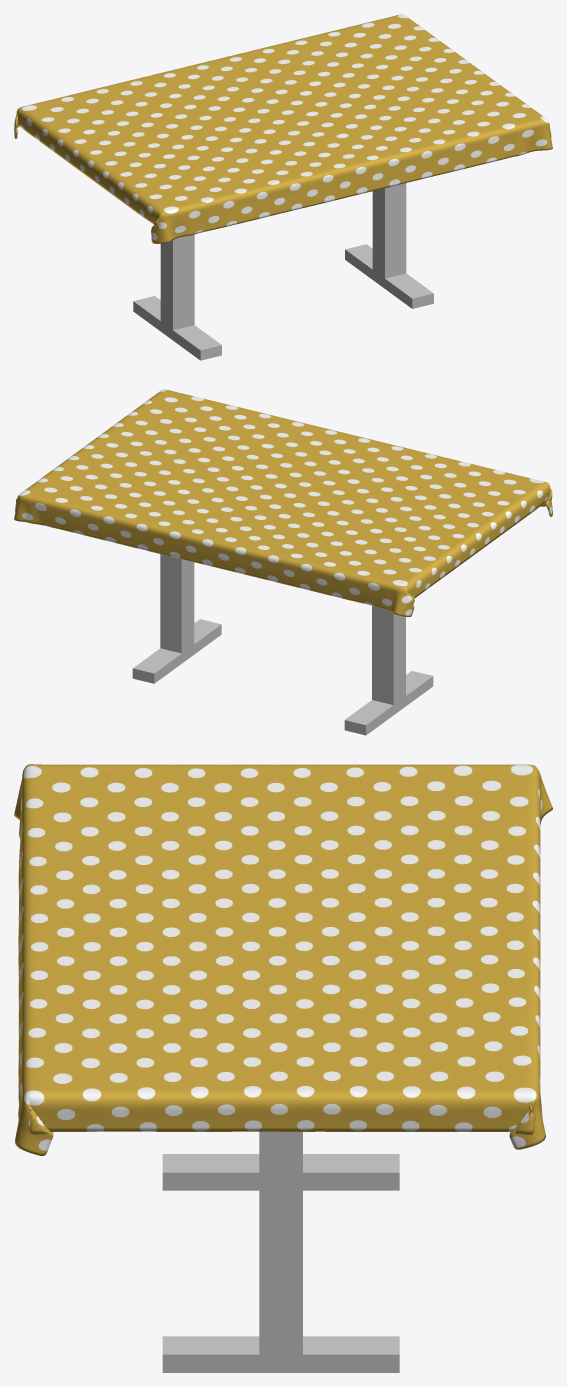
File: стол.fbx
3 renders of one model, top to bottom at view 1: azimuth 30°, elevation 25°; view 2: azimuth 150°, elevation 25°; view 3: azimuth 270°, elevation 25°, orthographic. The views are drawn at different scales.
Visible parts, largest first — view 1: Cube.000; view 2: Cube.000; view 3: Cube.000.
Boxes of the visible parts, <box> form: Cube.000: <box>14,14,552,360</box>; Cube.000: <box>14,389,552,735</box>; Cube.000: <box>14,764,552,1372</box>.
Size of the model in its own units: 359 by 168 by 239.
